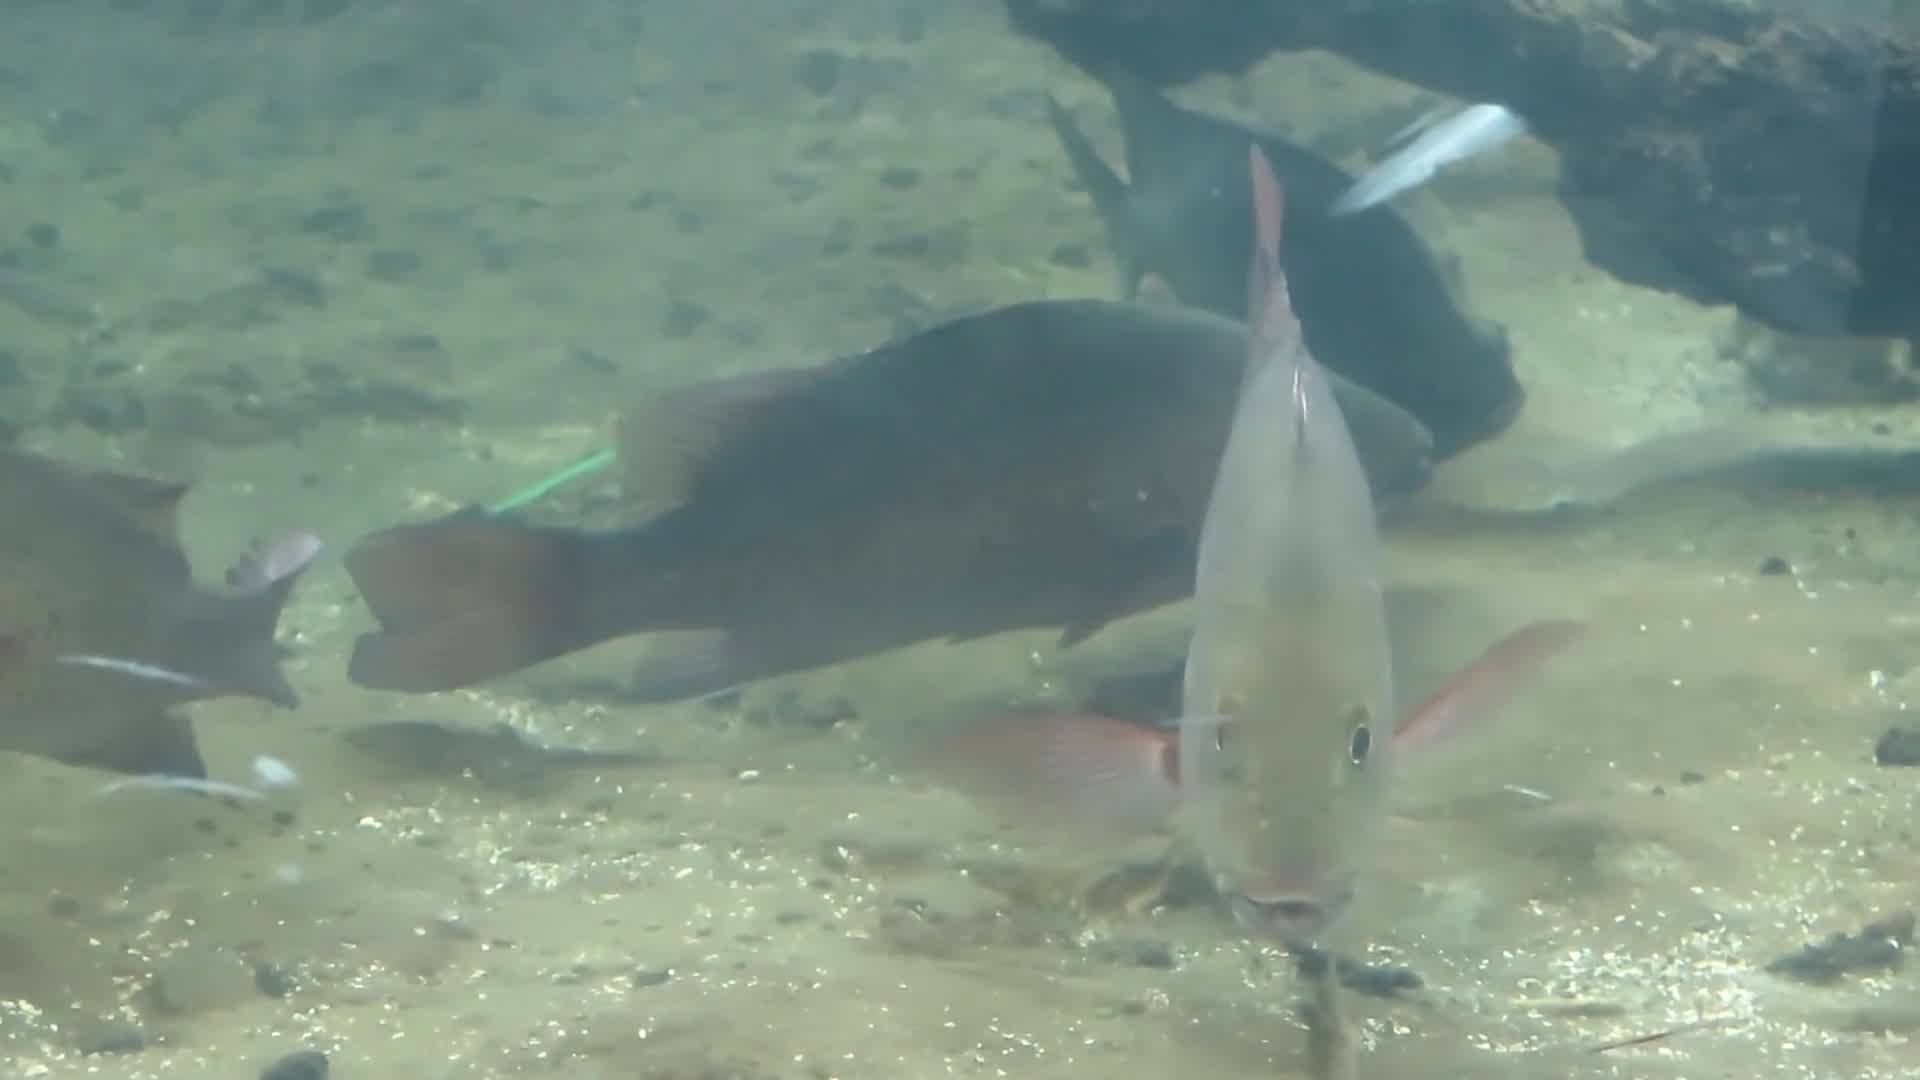Lutjanus argentimaculatus: (592, 295, 1472, 653), (1131, 212, 1425, 989)
